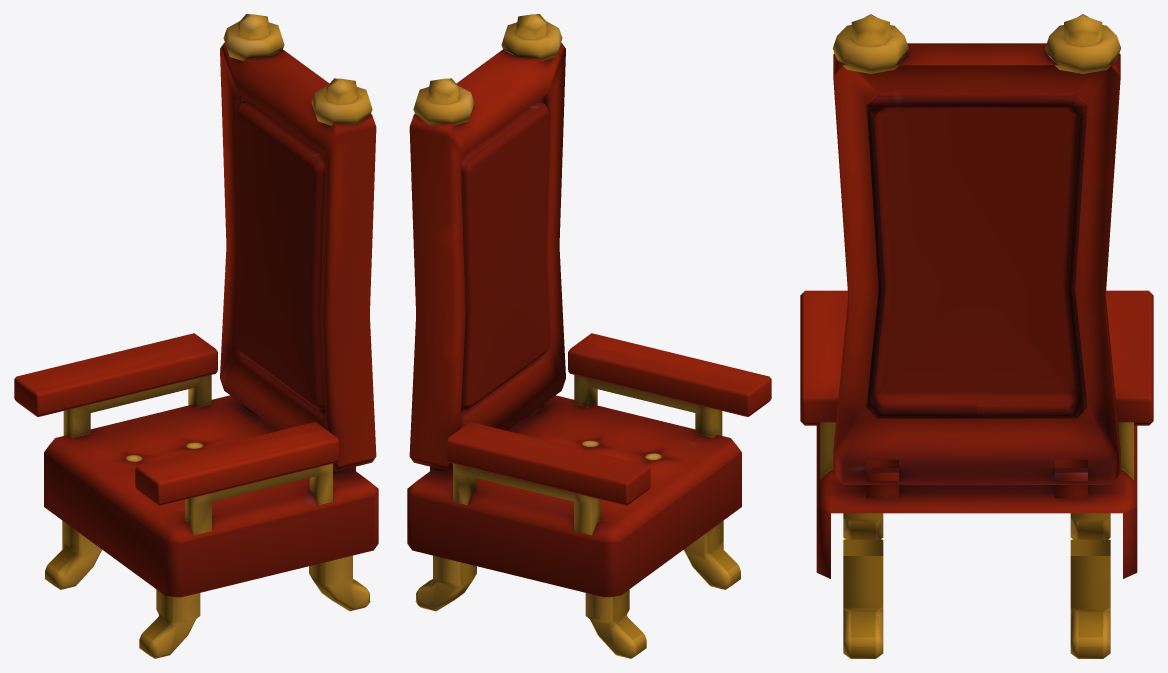
File: Silla.fbx
The picture shows the model from 3 angles, left to right: view 1: azimuth 30°, elevation 25°; view 2: azimuth 150°, elevation 25°; view 3: azimuth 270°, elevation 25°; orthographic projection. The views are drawn at different scales.
Parts seen in each view (by area): view 1: OBJ_Silla; view 2: OBJ_Silla; view 3: OBJ_Silla.
Part boxes in pixels (<box>): OBJ_Silla: <box>14,14,378,658</box>; OBJ_Silla: <box>407,14,771,658</box>; OBJ_Silla: <box>800,14,1153,658</box>.
Size of the model in its own units: 31.32 by 65.65 by 33.09.
